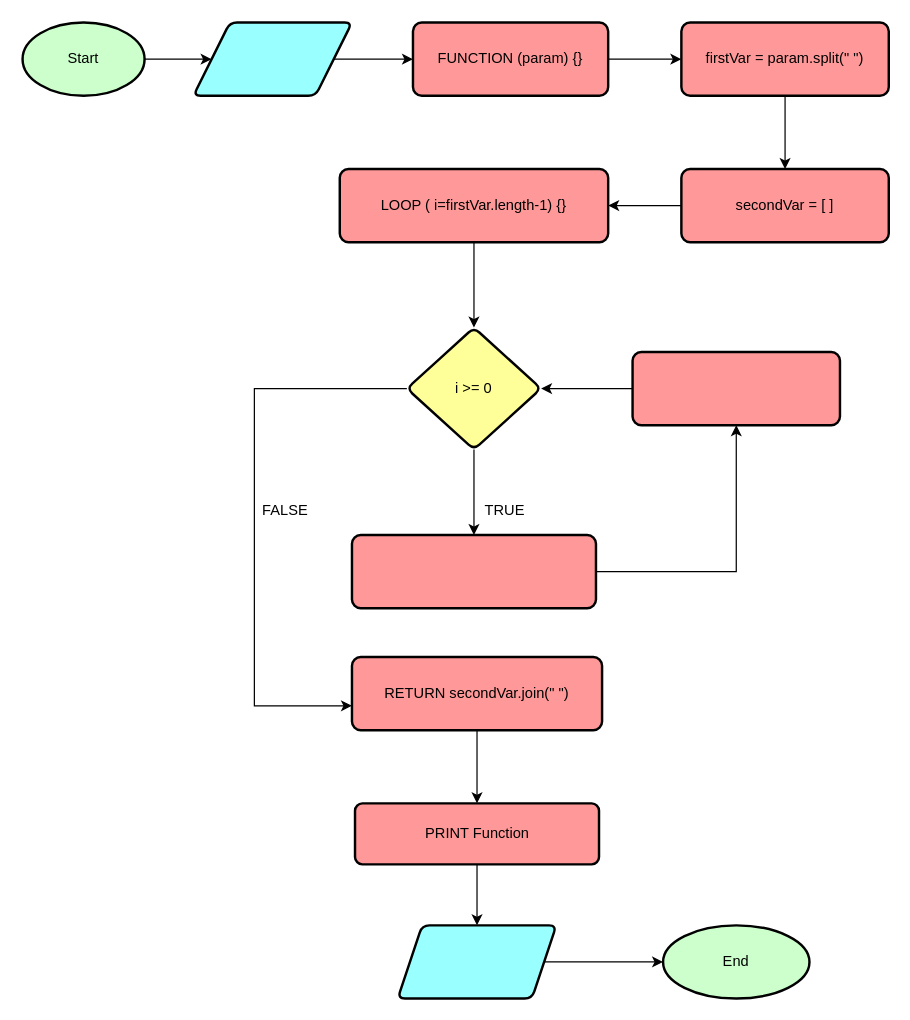
Some shapes in this 910 by 1020 pixel diagram are drawn without their labels. The centre of each missing label's shape, as x and y in pixels:
"i--" goes at point (736, 388).
"Input String Argument" goes at point (272, 58).
"Output Reverse String Sentence" goes at point (476, 961).
"secondVar.push(firstVar[i])" goes at point (473, 571).
